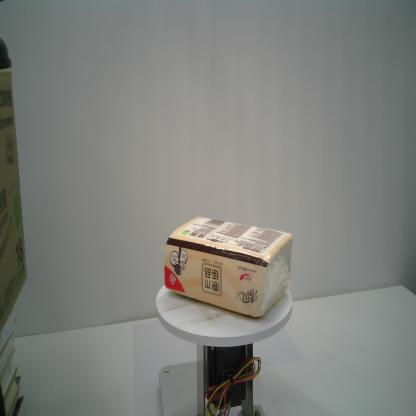Tissue: (159, 214, 293, 320)
